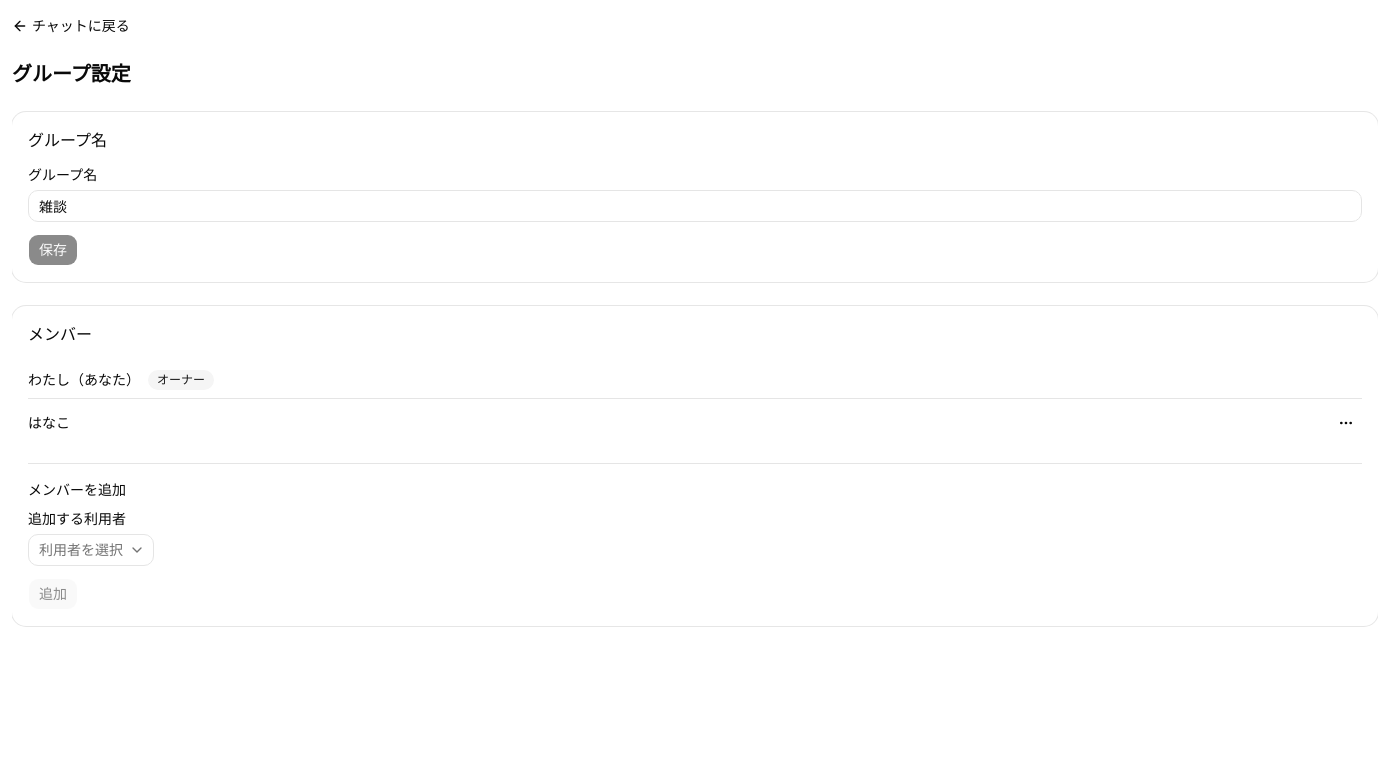
Scenario: GroupSettingsView › メンバーの追加 › オーナーには追加フォームが出て、選択肢はメンバーでない利用者だけ（登録順）
Expected: the heading "メンバーを追加" is shown, [28,480,126,499]
Click the dropdown named "追加する利用者" at x=91, y=550, box [28,534,154,566]
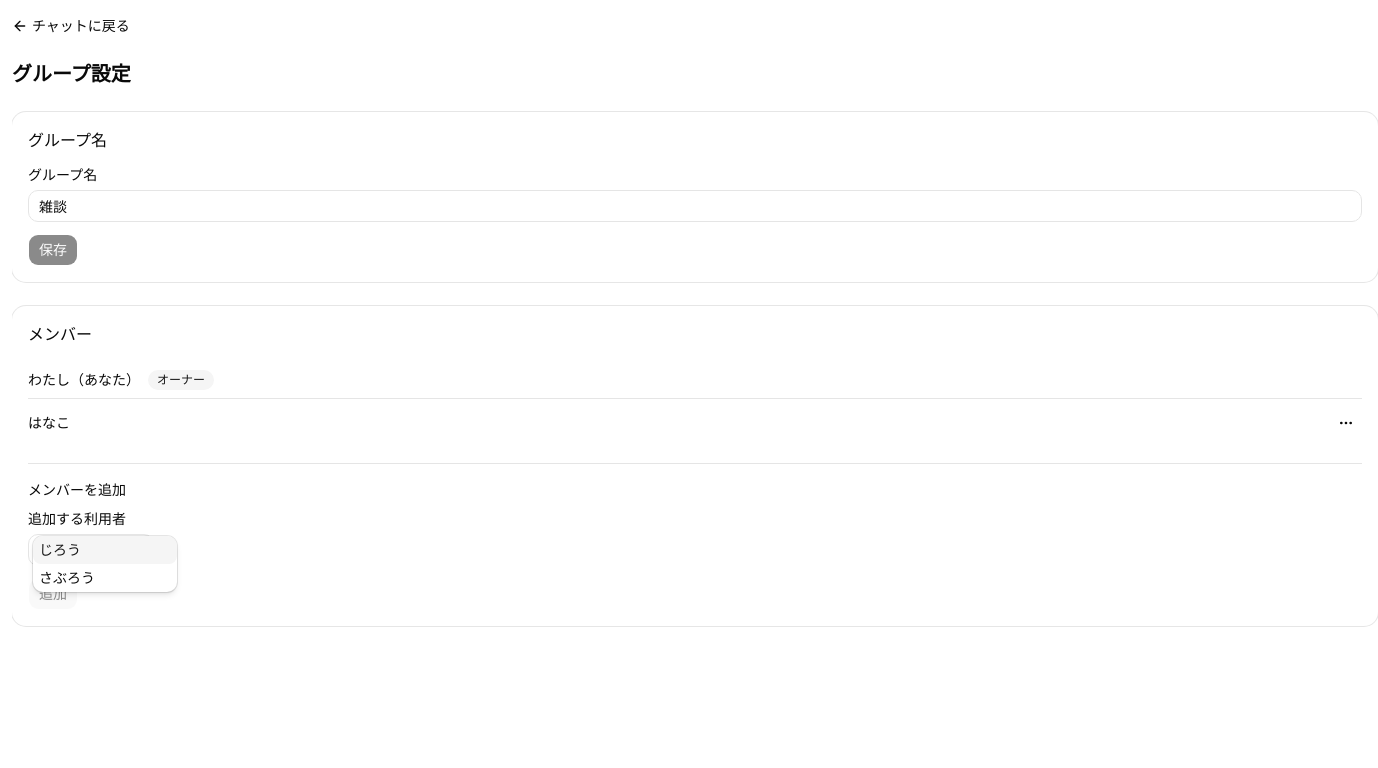
Now the options read "じろう", "さぶろう", in this order, box [33,536,177,564]; [39,568,95,587]
